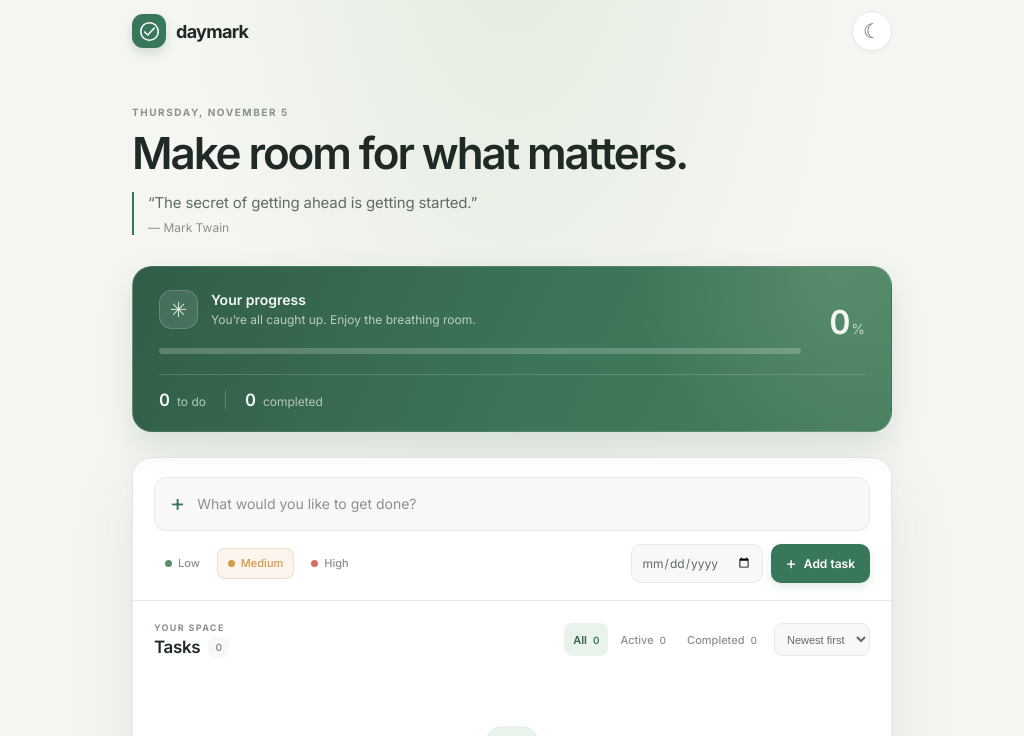
Scenario: completes, filters, and clears a task
Type "Send the proposal" into the field named "New task".
click(526, 504); type("Send the proposal")  # box [197,480,854,527]
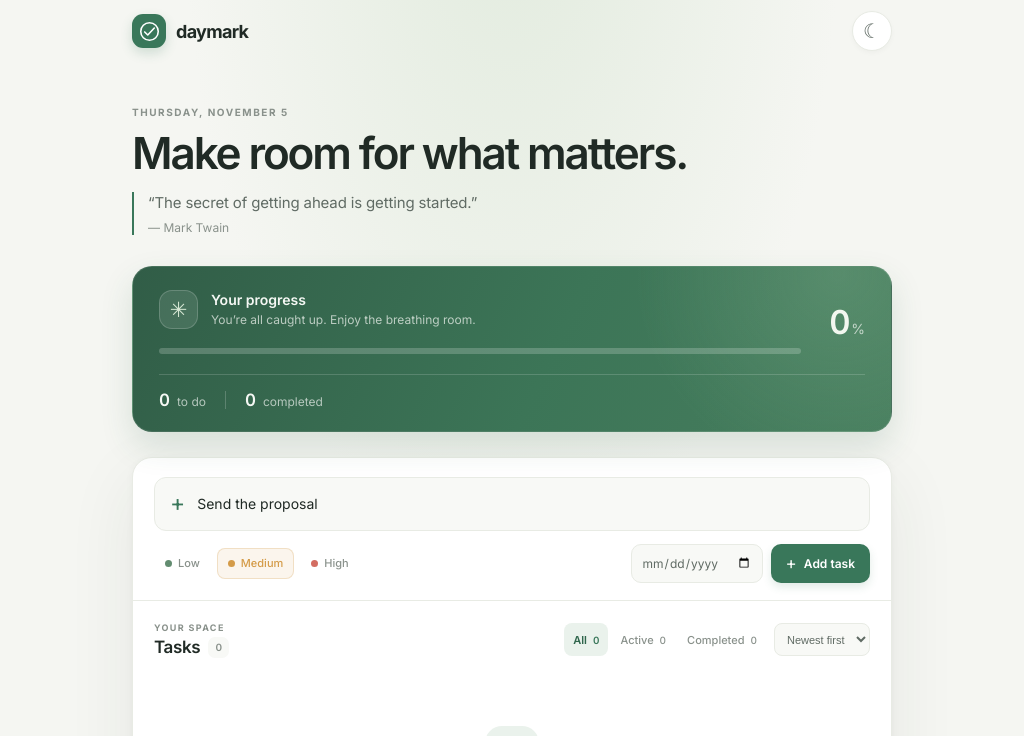
Click the button "+ Add task".
click(820, 563)  # box [771,544,870,583]
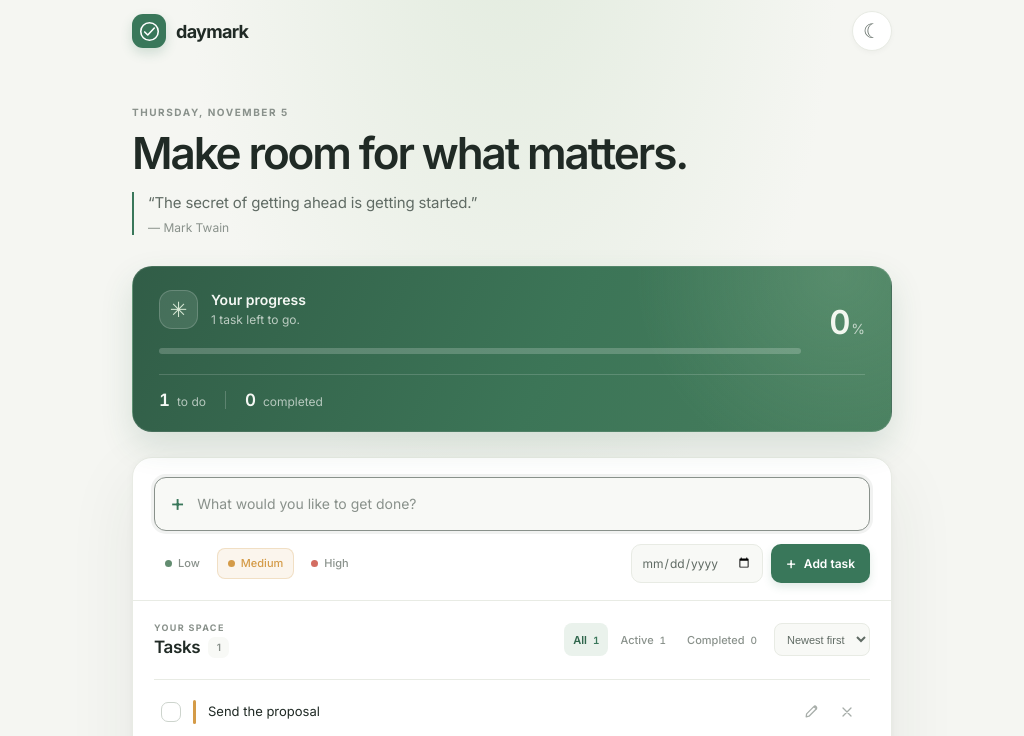
Click the button named "Complete Send the proposal".
click(171, 712)  # box [161,702,181,722]
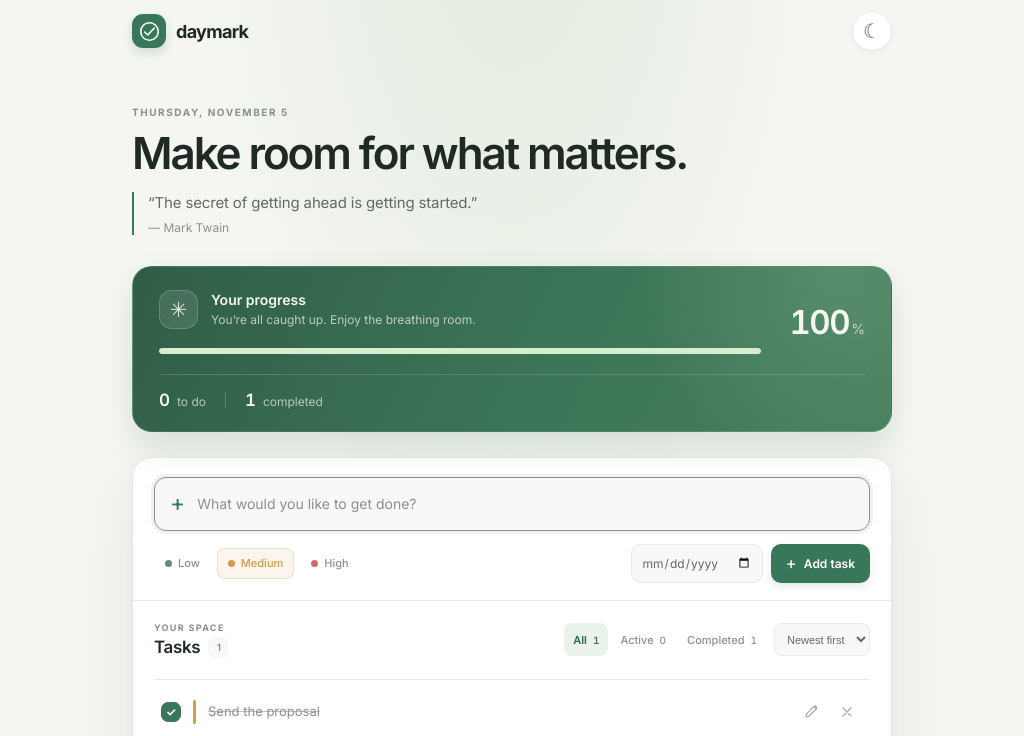
Expected: the progress indicator has attribute aria-valuenow="100", [159,348,761,354]
Click the button "Active 0".
click(643, 640)  # box [612,623,675,656]
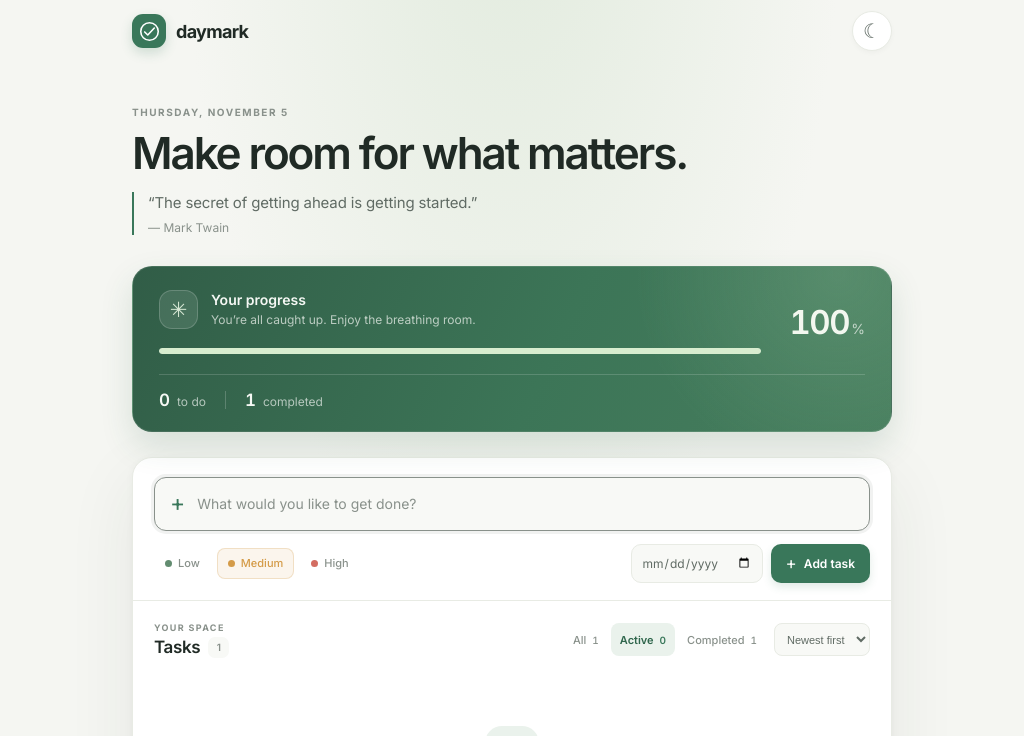
Click the button "Completed 1".
click(722, 640)  # box [678,623,766,656]
(page scrolled)
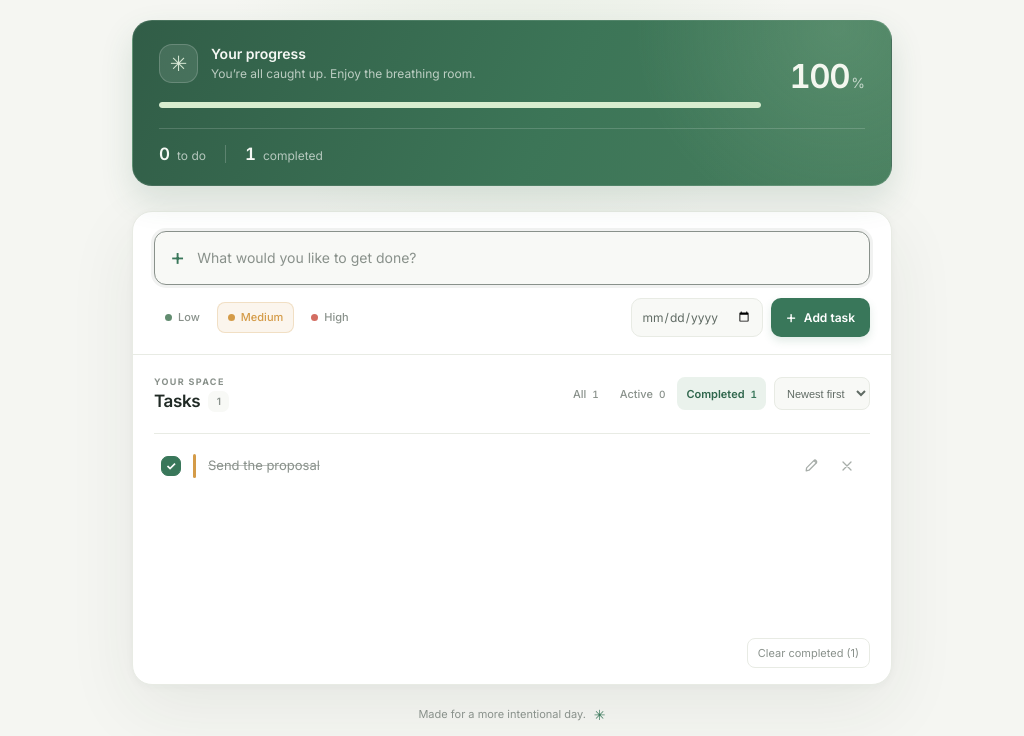
Expected: the text "Send the proposal" is shown, [208,456,320,476]
Click the button "Clear completed (1)".
click(808, 653)  # box [747,638,870,668]
(page scrolled)
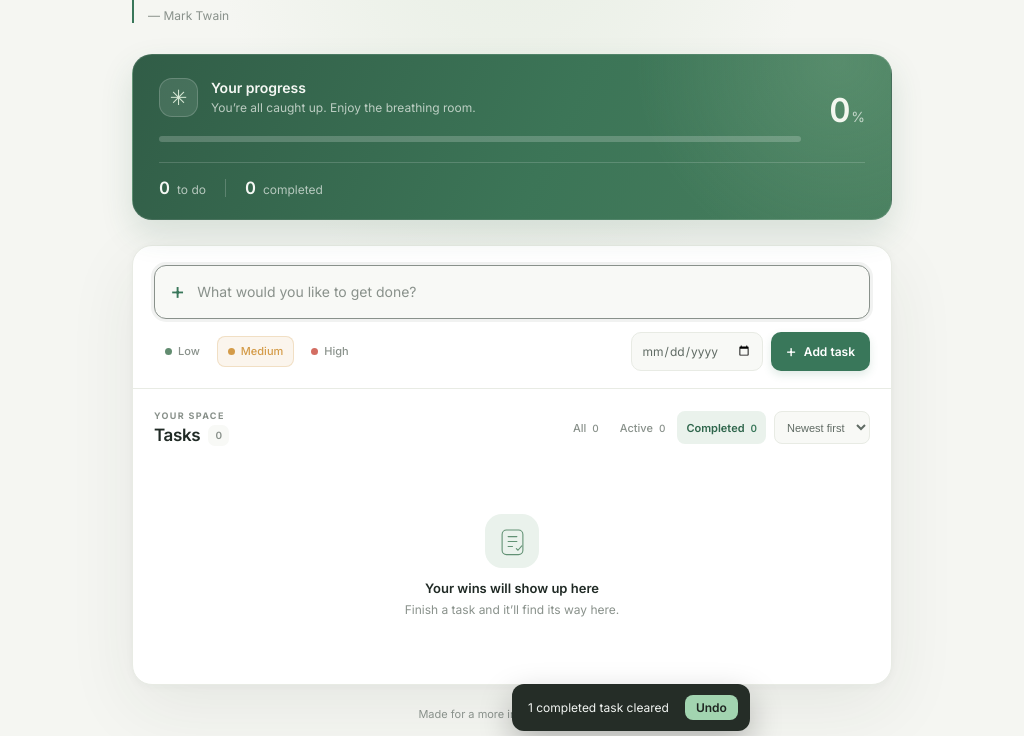
Expected: the text "Send the proposal" is gone
